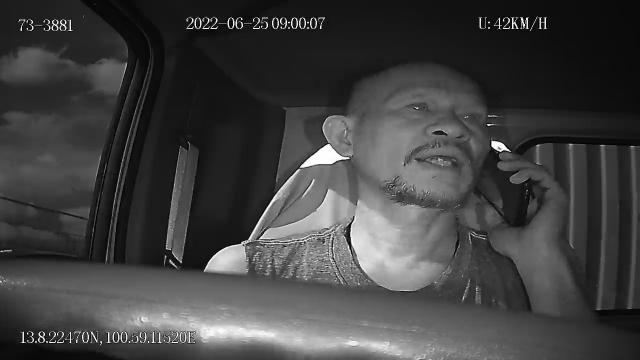PhoneUse: (474, 148, 534, 229)
SafeDriving: (395, 92, 438, 120)
